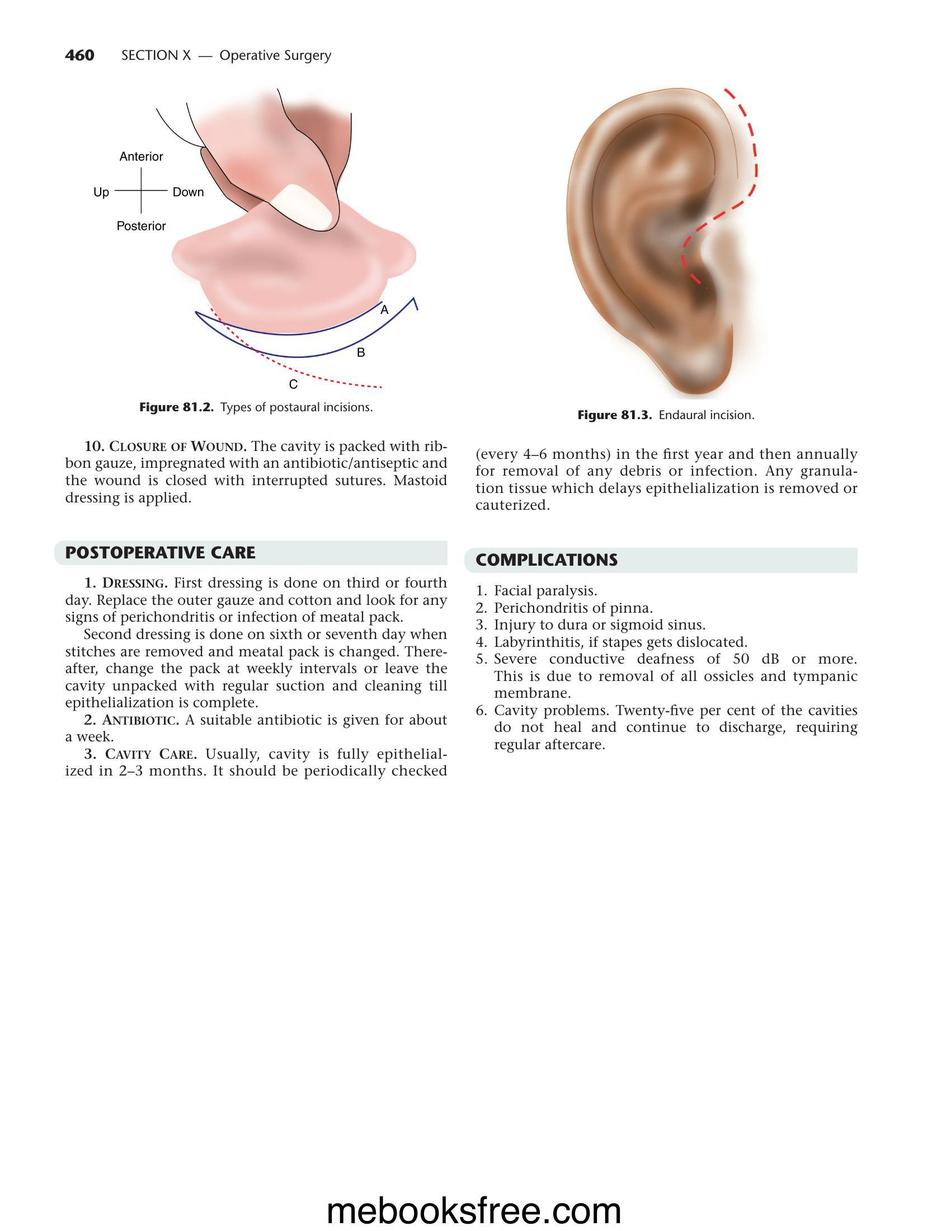caption: (136, 400, 375, 416), (576, 407, 754, 423)
header: (120, 47, 334, 64)
image: (84, 82, 433, 395), (545, 73, 797, 403)
list: (61, 572, 451, 781), (473, 581, 859, 755), (62, 435, 451, 507)
section-heading: (64, 543, 258, 562), (474, 550, 620, 568)
text: (473, 444, 861, 513)
